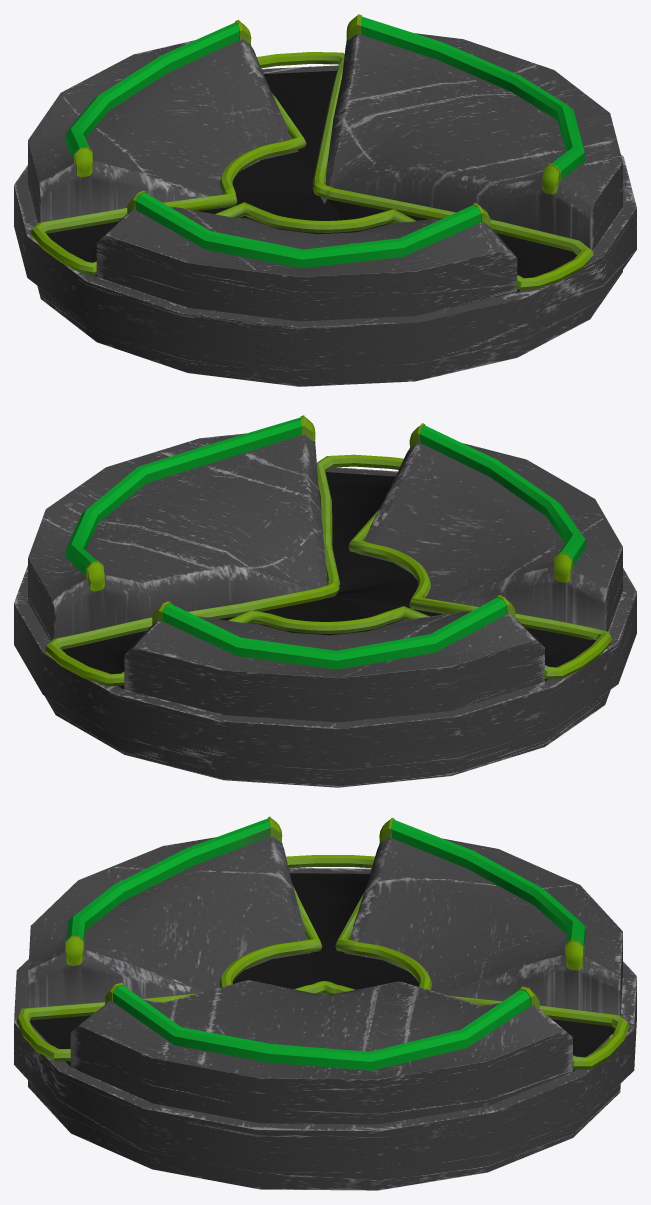
Rendered from PuzzlePieceCircle.fbx.
3 renders of one model, top to bottom at view 1: azimuth 30°, elevation 25°; view 2: azimuth 150°, elevation 25°; view 3: azimuth 270°, elevation 25°, orthographic.
Visible parts, largest first — view 1: ScreenContour; view 2: ScreenContour; view 3: ScreenContour.
Boxes of the visible parts, x1,y1,x2,y2 form: ScreenContour: [14, 14, 636, 386]; ScreenContour: [14, 415, 636, 787]; ScreenContour: [14, 816, 636, 1190].
Size of the model in its own units: 124 by 31.06 by 123.
1 material, 1 textured.
